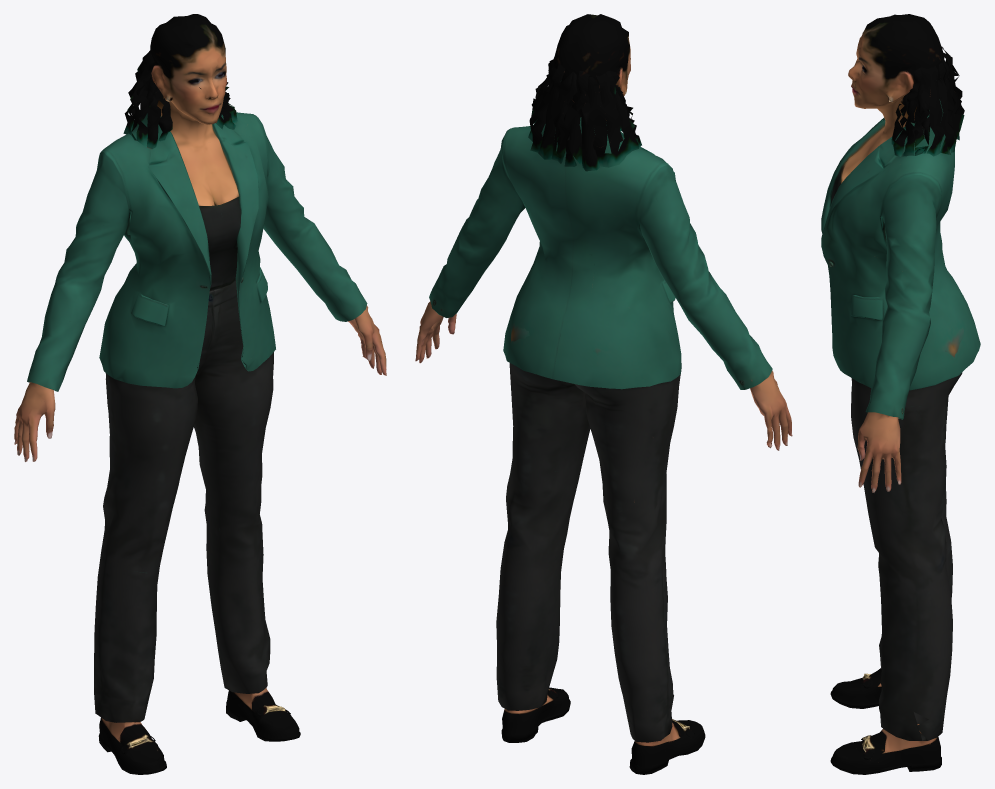
File: camila-reyes.glb
3 views of the same model, side by side, from view 1: azimuth 30°, elevation 25°; view 2: azimuth 150°, elevation 25°; view 3: azimuth 270°, elevation 25° (orthographic).
Visible parts, largest first — view 1: geometry_0; view 2: geometry_0; view 3: geometry_0.
Part boxes in pixels (bbox=[...]): geometry_0: bbox=[14, 14, 386, 774]; geometry_0: bbox=[415, 14, 792, 774]; geometry_0: bbox=[821, 14, 980, 774].
Bounding box in the file's own units: 0.4985 × 0.9502 × 0.1914.
1 material, 1 textured.
